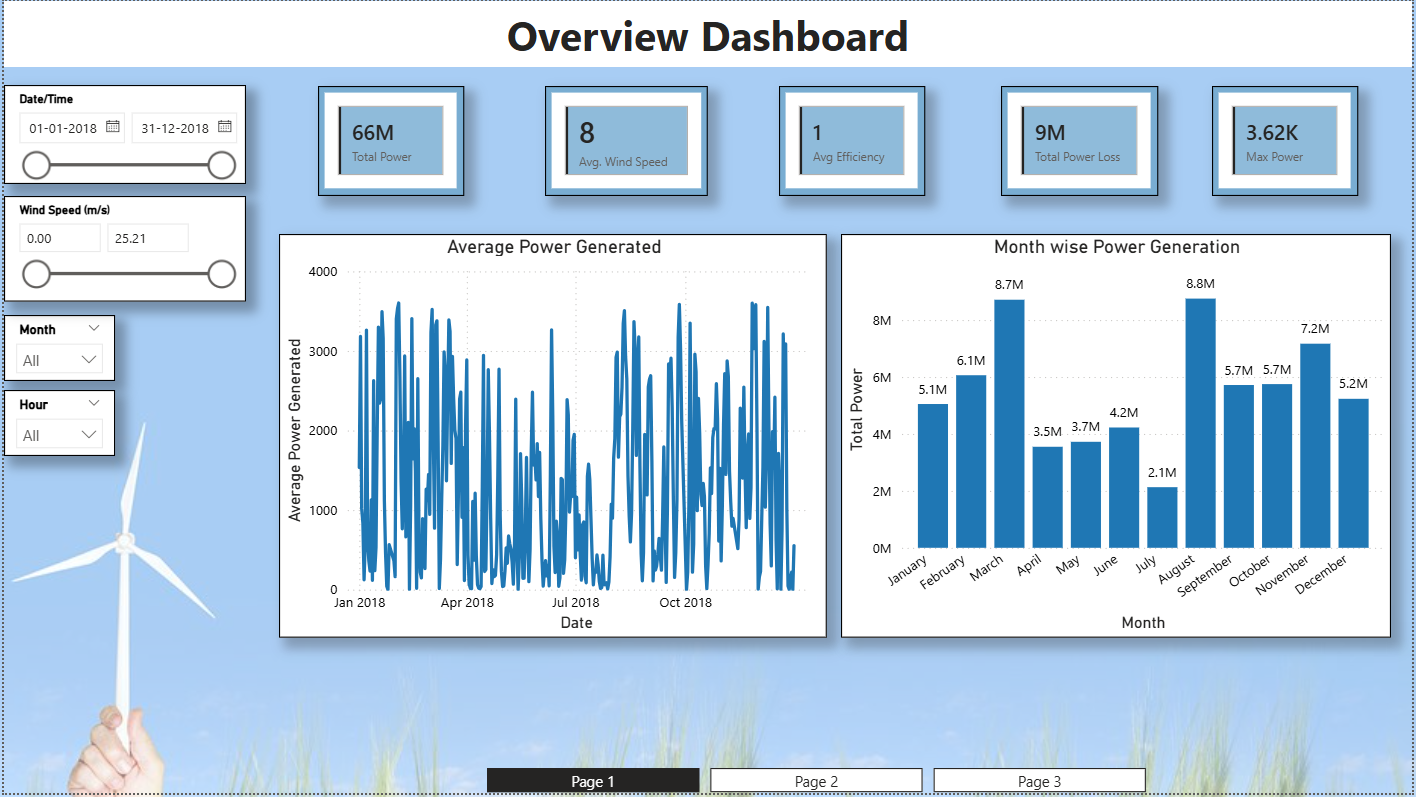

This screenshot's page, from the dashboard's own definition file:
{"tool":"powerbi","page":{"name":"Page 1","canvas":[1280,720],"ordinal":0},"visuals":[{"type":"textbox","box":[0,0,1280,60],"z":0},{"type":"cardVisual","fields":{"Data":["Processed_Data.Total Power"]},"box":[285.5,77.3,132.7,100],"z":1000},{"type":"cardVisual","fields":{"Data":["Processed_Data.Avg Wind Speed"]},"box":[491.8,77.3,148.2,100],"z":2000},{"type":"cardVisual","fields":{"Data":["Processed_Data.Avg Efficiency"]},"box":[704.5,77.3,132.7,100],"z":3000},{"type":"cardVisual","fields":{"Data":["Processed_Data.Total Power Loss"]},"box":[906.4,77.3,142.7,100],"z":4000},{"type":"cardVisual","fields":{"Data":["Processed_Data.Max Power"]},"box":[1098.2,77.3,132.7,100],"z":5000},{"type":"slicer","fields":{"Values":["DateTable.Month"]},"box":[0,285.5,100.9,60],"z":6000},{"type":"lineChart","title":"Average Power Generated","fields":{"Category":["DateTable.Date"],"Y":["Avg(Processed_Data.LV ActivePower (kW))"]},"box":[250,211.8,498.2,367.3],"z":7000},{"type":"columnChart","title":"Month wise Power Generation","fields":{"Category":["DateTable.Month"],"Y":["Processed_Data.Total Power"]},"box":[760.9,211.8,500,367.3],"z":8000},{"type":"slicer","fields":{"Values":["Processed_Data.Hour"]},"box":[0,353.6,100.9,60],"z":9000},{"type":"slicer","fields":{"Values":["Processed_Data.Date/Time"]},"box":[0,76.4,220,90],"z":10000},{"type":"slicer","fields":{"Values":["Processed_Data.Wind Speed (m/s)"]},"box":[0,177.3,220,96.4],"z":11000},{"type":"pageNavigator","box":[439.1,697.3,600,22.7],"z":12000}]}

Visuals, with their boxes in screenshot pixels (x1, y1, x2, y2), scaled from the page's 1280x720 canvas onto the 1416x797 screenshot:
textbox: {"x1": 0, "y1": 0, "x2": 1415, "y2": 66}
cardVisual - Processed_Data.Total Power: {"x1": 316, "y1": 86, "x2": 463, "y2": 196}
cardVisual - Processed_Data.Avg Wind Speed: {"x1": 544, "y1": 86, "x2": 708, "y2": 196}
cardVisual - Processed_Data.Avg Efficiency: {"x1": 779, "y1": 86, "x2": 926, "y2": 196}
cardVisual - Processed_Data.Total Power Loss: {"x1": 1003, "y1": 86, "x2": 1161, "y2": 196}
cardVisual - Processed_Data.Max Power: {"x1": 1215, "y1": 86, "x2": 1362, "y2": 196}
slicer - DateTable.Month: {"x1": 0, "y1": 316, "x2": 112, "y2": 382}
"Average Power Generated" lineChart: {"x1": 277, "y1": 234, "x2": 828, "y2": 641}
"Month wise Power Generation" columnChart: {"x1": 842, "y1": 234, "x2": 1395, "y2": 641}
slicer - Processed_Data.Hour: {"x1": 0, "y1": 391, "x2": 112, "y2": 458}
slicer - Processed_Data.Date/Time: {"x1": 0, "y1": 85, "x2": 243, "y2": 184}
slicer - Processed_Data.Wind Speed (m/s): {"x1": 0, "y1": 196, "x2": 243, "y2": 303}
pageNavigator: {"x1": 486, "y1": 772, "x2": 1150, "y2": 796}
